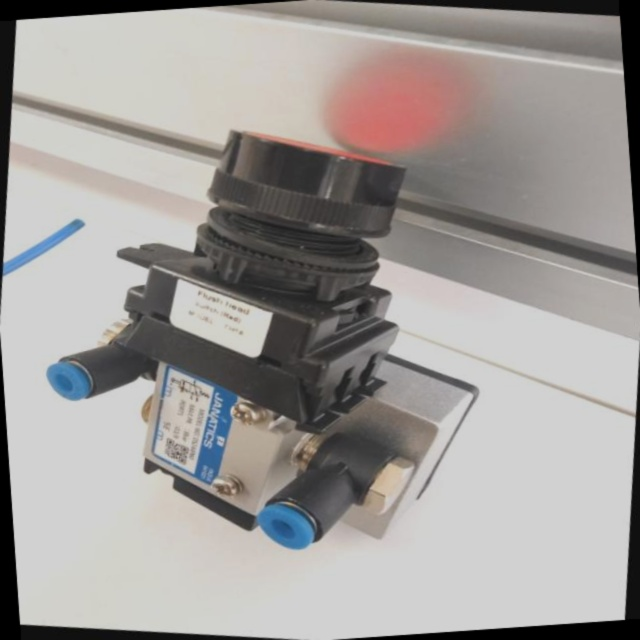push button: (8, 89, 521, 588)
